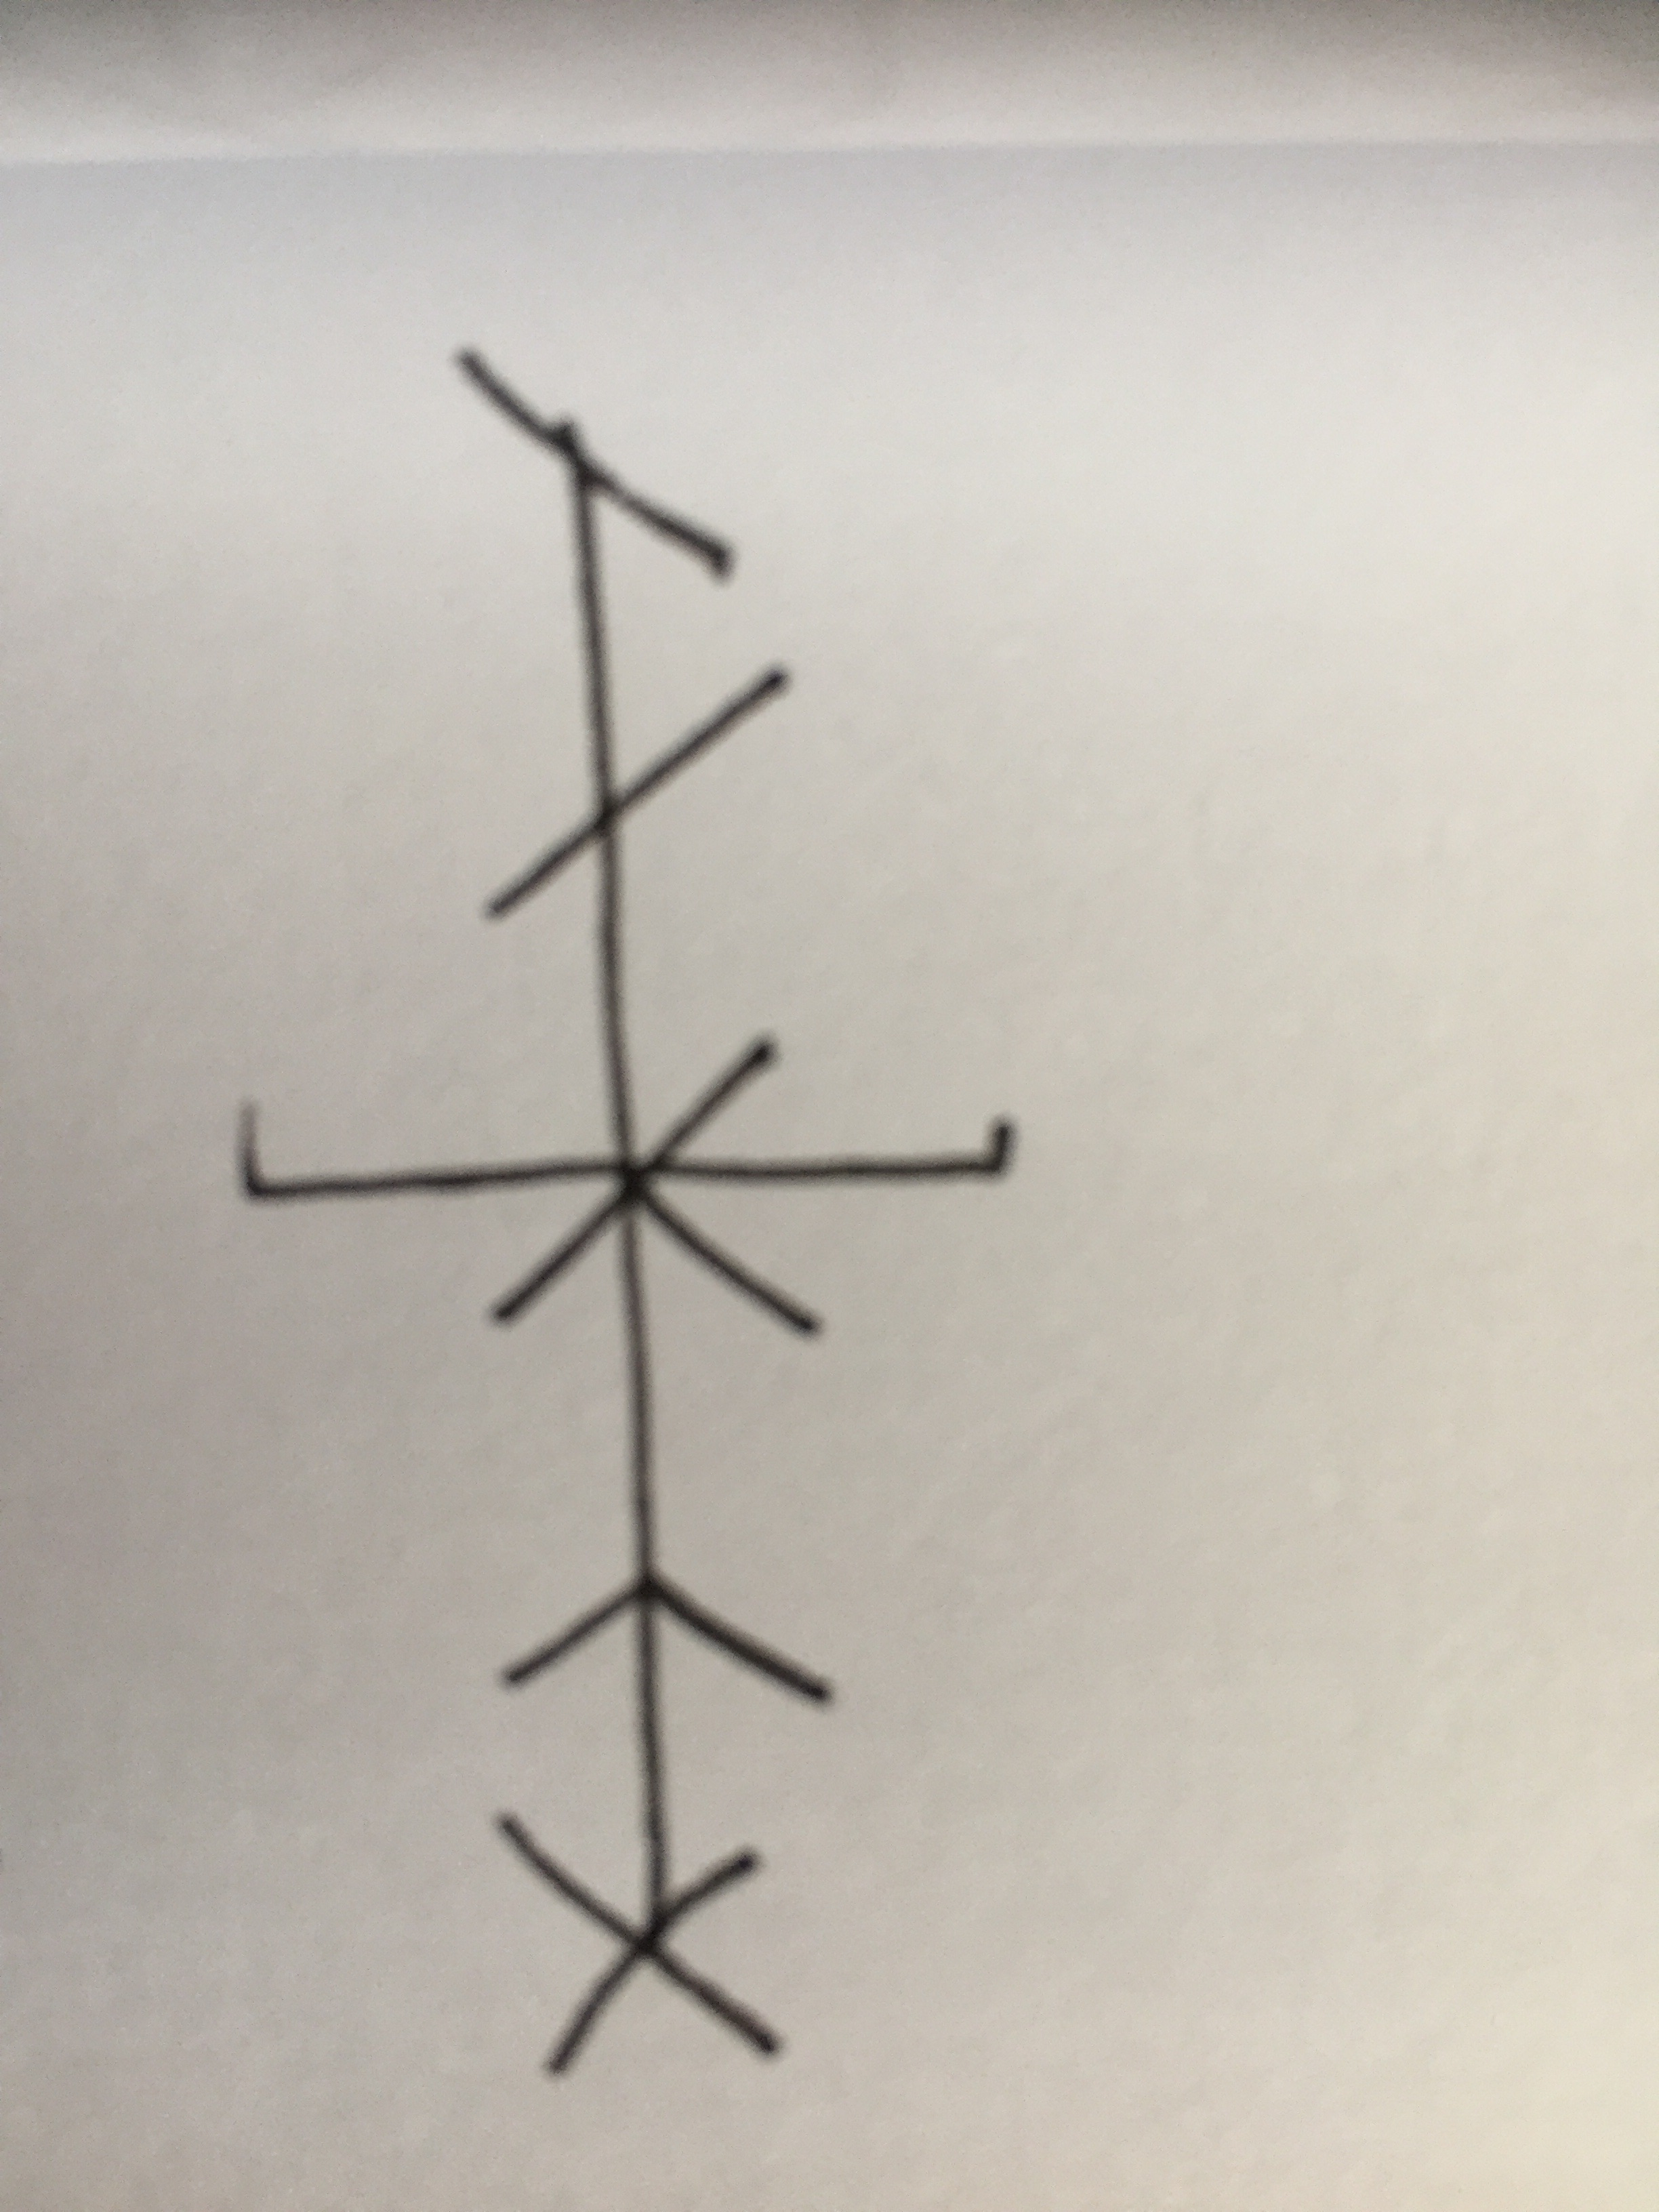Bar: (446, 341, 840, 2085)
Barcode: (234, 343, 1018, 2085)
End: (720, 1113, 1018, 1195)
Start: (234, 1099, 587, 1207)
